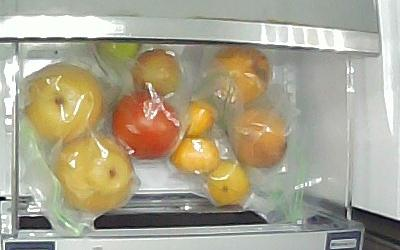peach_vinyl: (230, 107, 287, 168), (211, 48, 271, 104)
pear_vinyl: (28, 65, 104, 141), (57, 137, 133, 212)
tangerine_vinyl: (210, 160, 252, 206), (173, 136, 221, 175), (185, 100, 215, 136)
tomato_vinyl: (113, 91, 180, 161), (134, 50, 184, 96), (96, 41, 142, 62)
